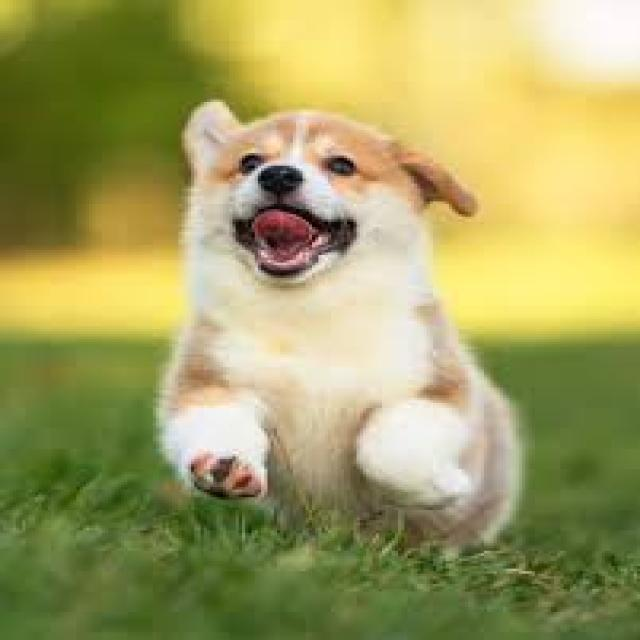CORGI: (149, 73, 550, 564)
